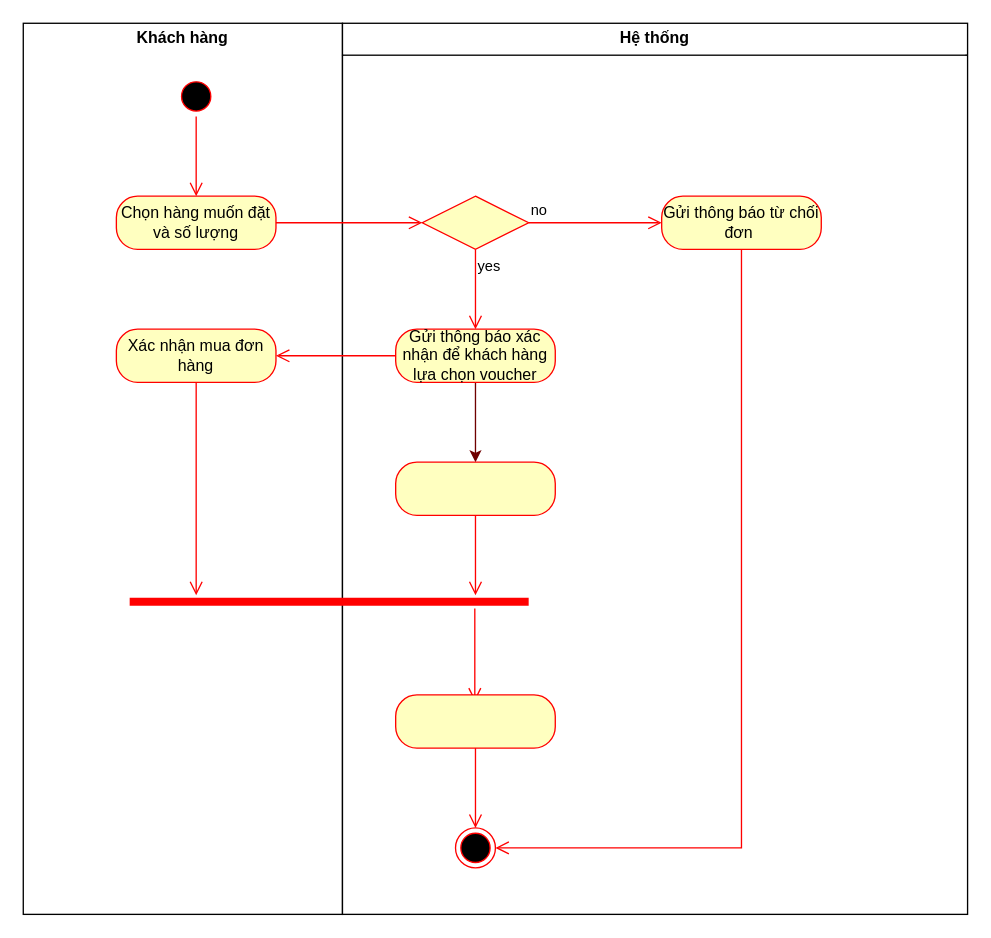
Some shapes in this 991 by 938 pixel diagram are drawn without their labels. Each missing label, with the box of its shape:
Khởi tạo một đơn hàng với trạng thái chờ: (394, 461, 555, 515)
Số lượng đủ?: (421, 195, 529, 249)
Thay đổi đơn hàng thành đặt hàng thành công và thông báo: (394, 694, 555, 748)
